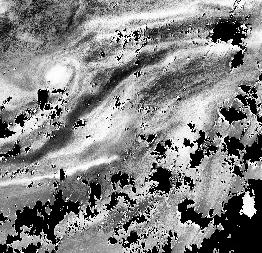CE: (38, 53, 79, 94)
